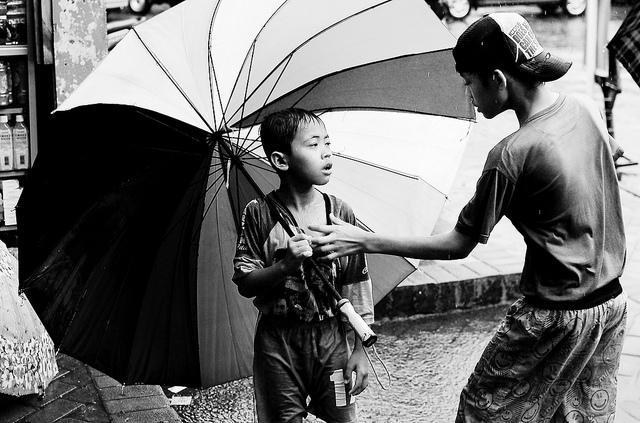car: (430, 1, 590, 20)
